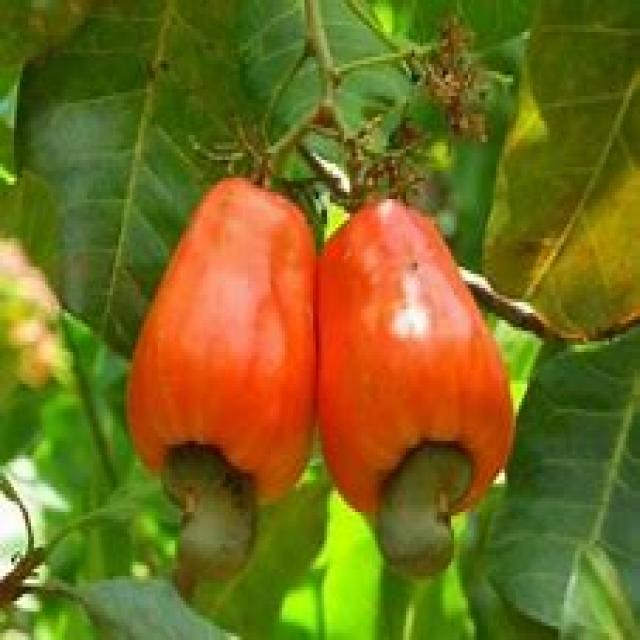Cashew: (138, 449, 282, 562), (376, 441, 475, 598)
